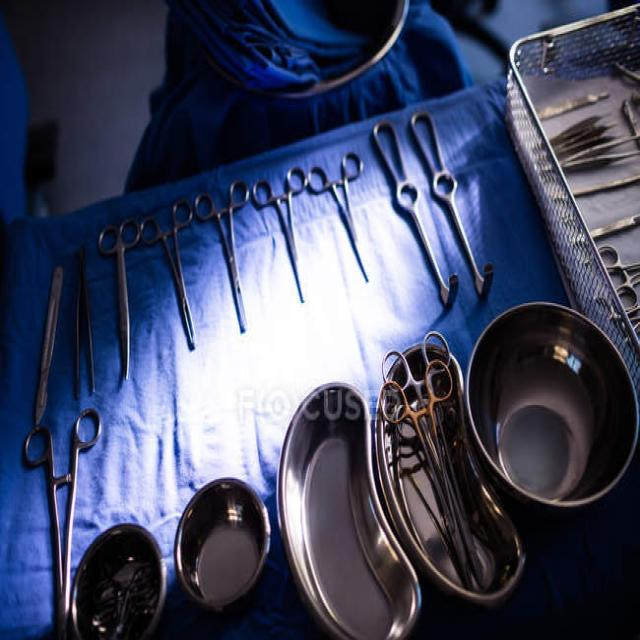B3: (369, 350, 488, 582), (17, 400, 100, 626), (189, 174, 262, 340), (302, 146, 381, 284), (249, 162, 319, 314), (91, 213, 150, 390)
